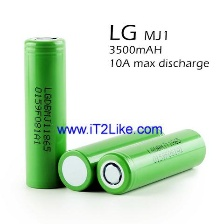battery: (92, 123, 207, 198), (53, 125, 170, 194), (21, 33, 68, 192)
